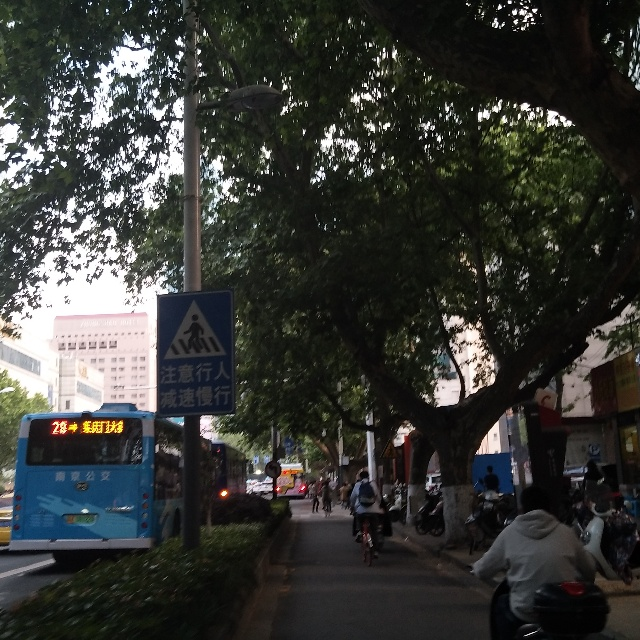crosswalk: (155, 288, 242, 422)
